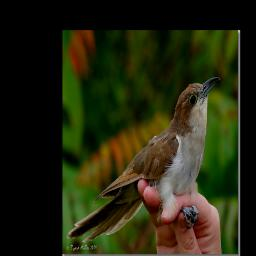Cuckoo: (66, 75, 221, 242)
